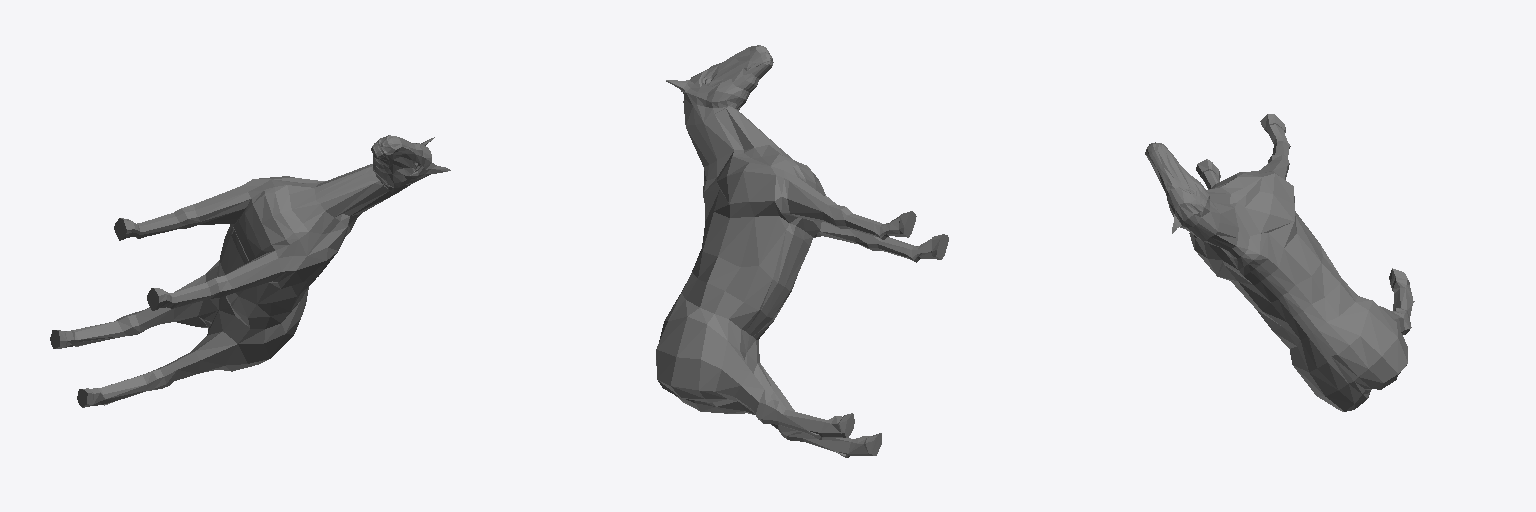
File: horse.obj
3 renders of one model, left to right at view 1: azimuth 30°, elevation 25°; view 2: azimuth 150°, elevation 25°; view 3: azimuth 270°, elevation 25°, orthographic.
Visible parts, largest first — view 1: Horse; view 2: Horse; view 3: Horse.
Part boxes in pixels (bbox=[...]): Horse: bbox=[50, 135, 450, 407]; Horse: bbox=[656, 45, 948, 457]; Horse: bbox=[1145, 114, 1414, 411].
Bounding box in the file's own units: 11.07 × 11.02 × 9.14.